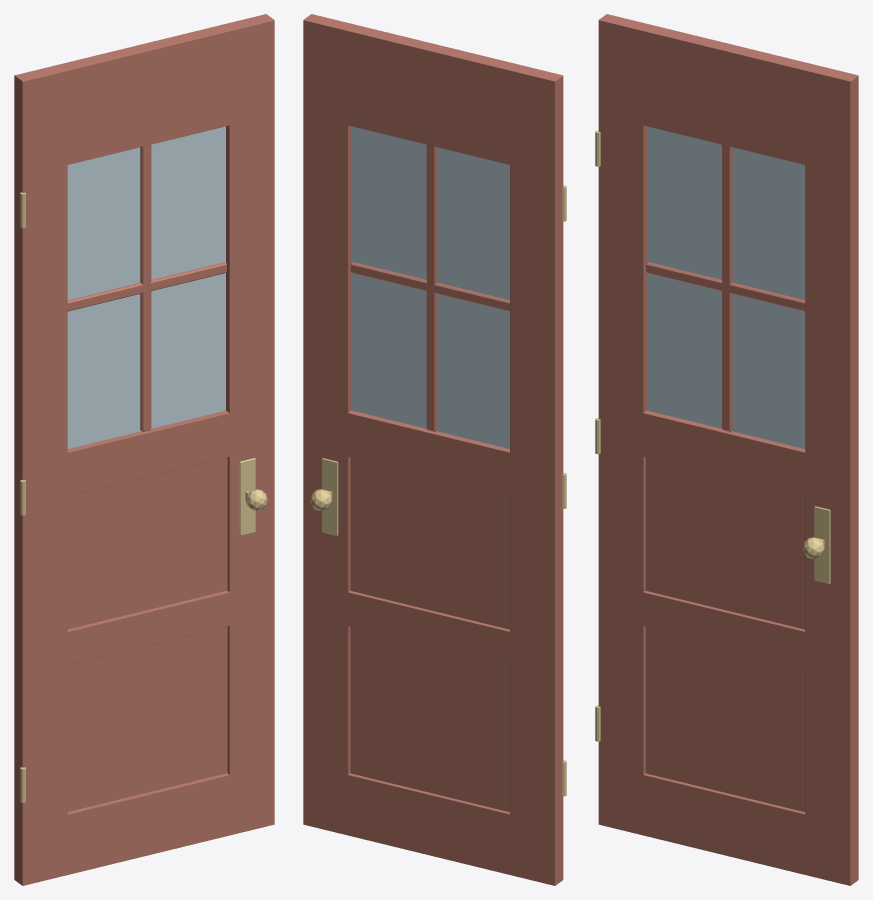
Rendered from door_leaf_store.glb.
3 views of the same model, side by side, from view 1: azimuth 30°, elevation 25°; view 2: azimuth 150°, elevation 25°; view 3: azimuth 330°, elevation 25° (orthographic).
Parts seen in each view (by area): view 1: door_leaf_store_door, door_leaf_store_glass, door_leaf_store_brass; view 2: door_leaf_store_door, door_leaf_store_glass, door_leaf_store_brass; view 3: door_leaf_store_door, door_leaf_store_glass, door_leaf_store_brass.
Boxes of the visible parts, box(x1,y1,x2,y2) form: door_leaf_store_door: box(14, 14, 274, 885); door_leaf_store_glass: box(67, 126, 225, 448); door_leaf_store_brass: box(20, 192, 267, 802); door_leaf_store_door: box(303, 14, 563, 885); door_leaf_store_glass: box(351, 126, 509, 448); door_leaf_store_brass: box(310, 185, 566, 796); door_leaf_store_door: box(598, 14, 858, 885); door_leaf_store_glass: box(647, 126, 805, 448); door_leaf_store_brass: box(595, 130, 830, 741).
Size of the model in its own units: 0.788 by 2.38 by 0.205.
